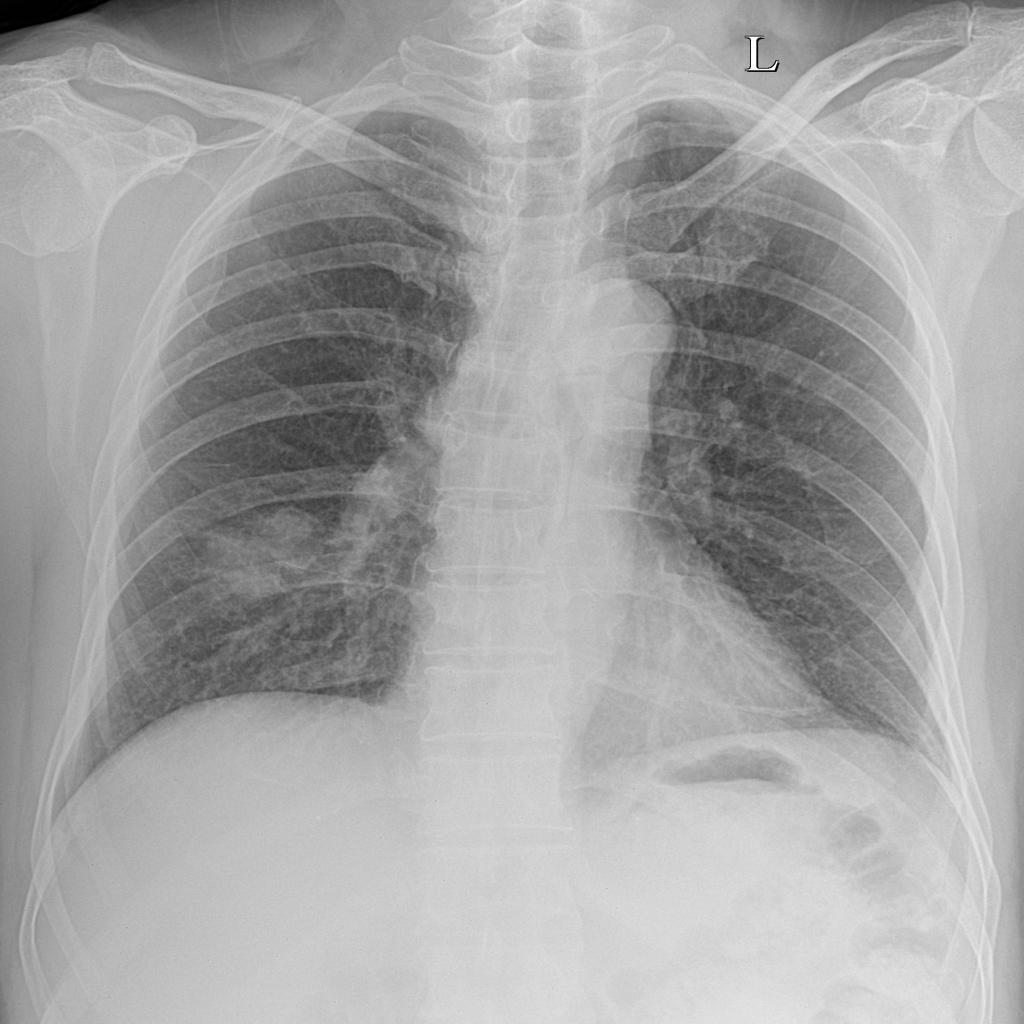Nodule: (173, 492, 331, 604)
